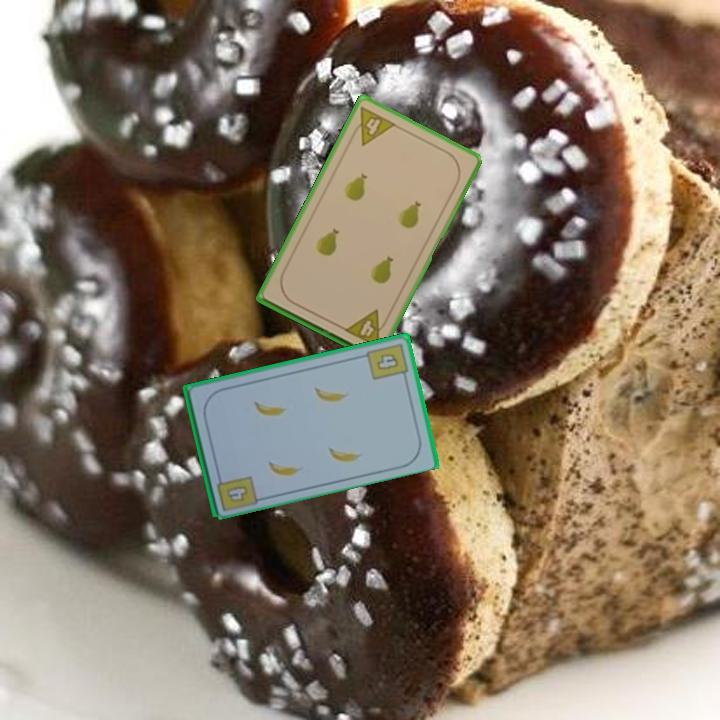4b: (363, 339, 411, 383), (225, 483, 249, 502)
4p: (346, 103, 399, 148), (341, 306, 392, 350)
